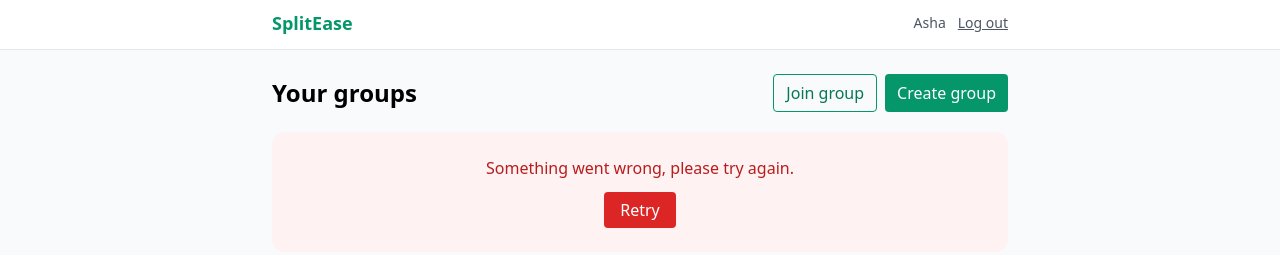
Test: dashboard › shows an error with a retry button when loading fails
What coordinates should you click on to do the following:
click the button "Retry"
I would click on:
 (640, 210)
Its box is [604, 192, 676, 228].
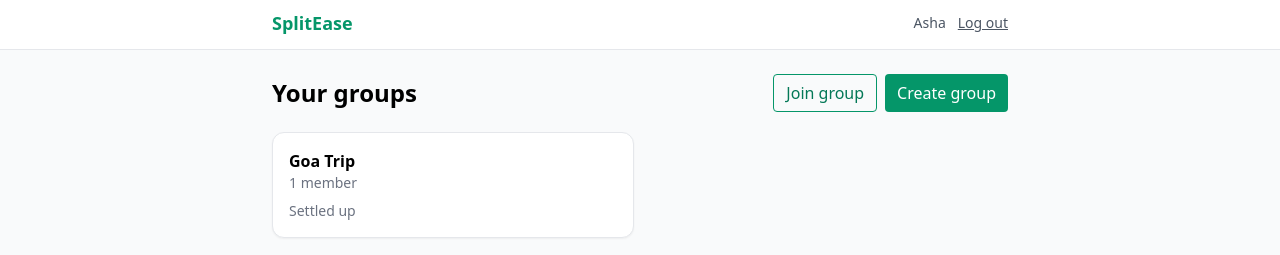
Expected: the text "Goa Trip" is shown, [289, 150, 355, 172]
